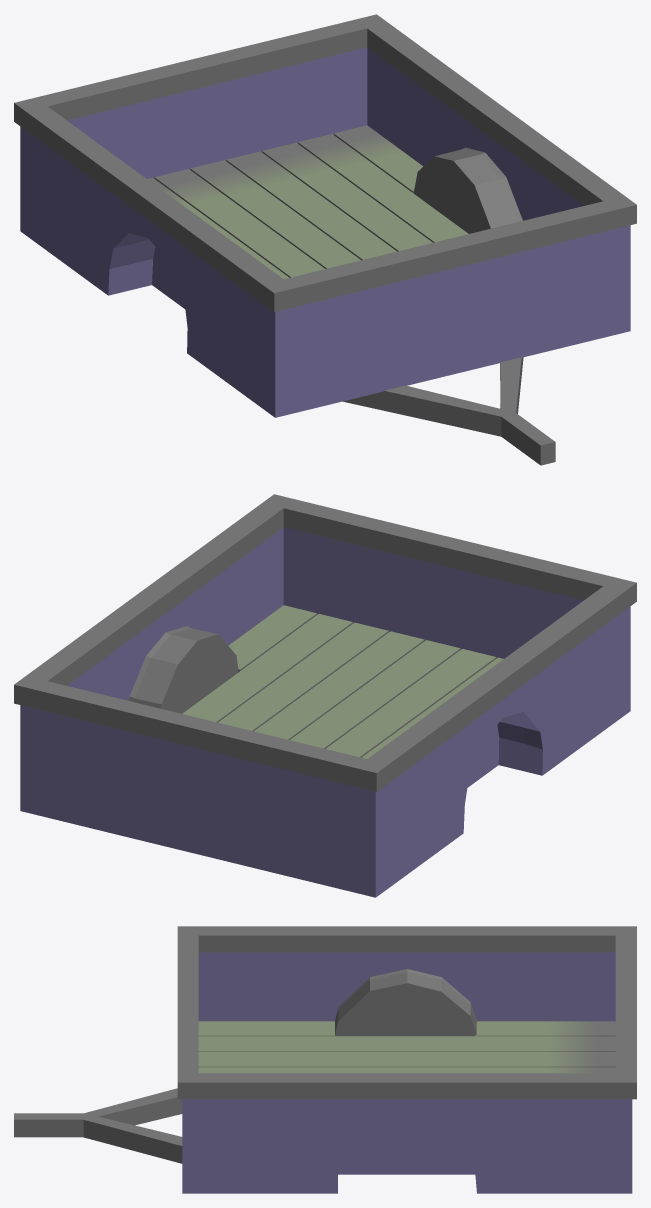
The model's file is CarTrailer_02.fbx.
3 views of the same model, one above another, from view 1: azimuth 30°, elevation 25°; view 2: azimuth 150°, elevation 25°; view 3: azimuth 270°, elevation 25° (orthographic). The views are drawn at different scales.
Parts seen in each view (by area): view 1: CarTrailer_02; view 2: CarTrailer_02; view 3: CarTrailer_02.
Boxes of the visible parts, left/top/right/bottom form: CarTrailer_02: left=14, top=14, right=636, bottom=465; CarTrailer_02: left=14, top=494, right=636, bottom=897; CarTrailer_02: left=14, top=926, right=636, bottom=1193.
Size of the model in its own units: 164 by 63.63 by 277.
